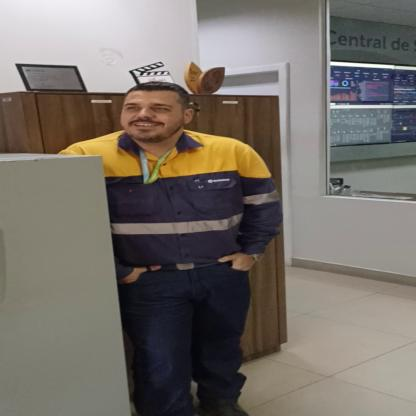Operacional: (68, 132, 283, 264)
